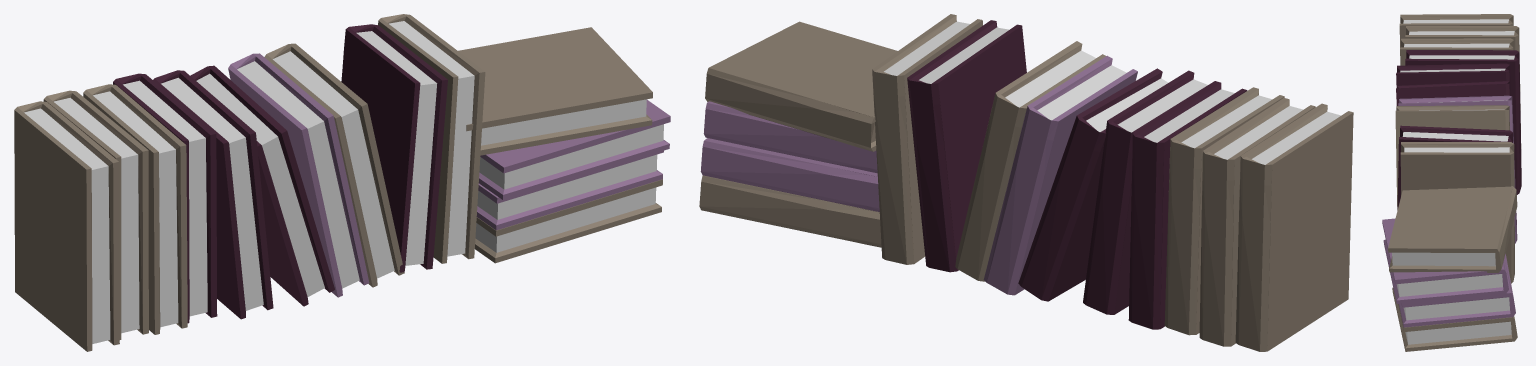
File: book_set.glb
The picture shows the model from 3 angles, left to right: view 1: azimuth 30°, elevation 25°; view 2: azimuth 150°, elevation 25°; view 3: azimuth 270°, elevation 25°; orthographic projection. The views are drawn at different scales.
Visible parts, largest first — view 1: book_set; view 2: book_set; view 3: book_set.
Boxes of the visible parts, x1,y1,x2,y2 form: book_set: (14, 14, 670, 351); book_set: (699, 14, 1353, 351); book_set: (1382, 14, 1521, 351).
Size of the model in its own units: 0.8963 by 0.2931 by 0.2593.
